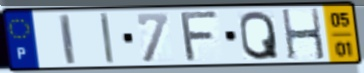7: (135, 11, 172, 64)
F: (179, 9, 222, 64)
H: (279, 7, 328, 62)
I: (56, 12, 78, 66), (97, 11, 117, 66)
Q: (238, 9, 281, 62)
